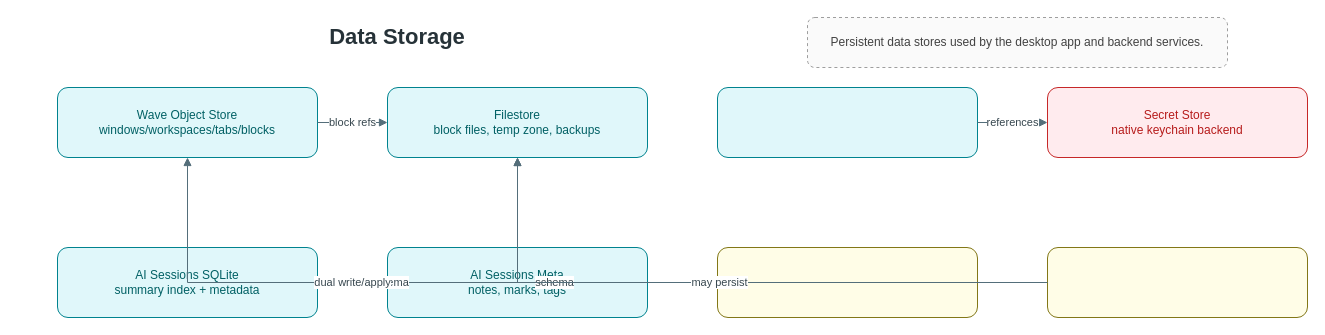
The diagram is 1325 pixels wide and 335 high, and some of its shapes have lost their labels. The shapes that lost their labels are listed below. From the top down, each one's centre as x and y in pixels, then its label:
At (x=847, y=122): "Config Directory settings + launch data".
At (x=847, y=282): "DB Migrations db/migrations-*".
At (x=1177, y=282): "Runtime Caches favicon, previews, generated data".
